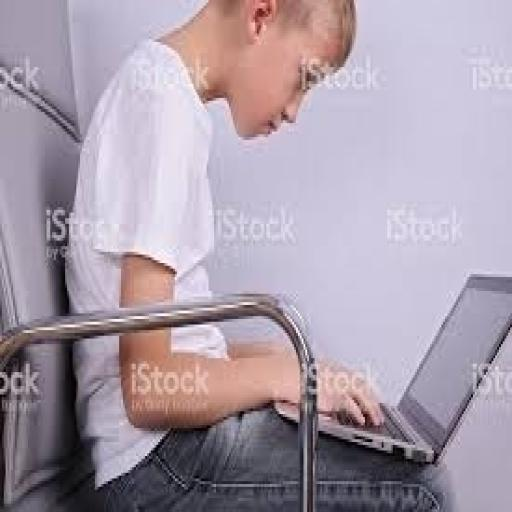using_laptop: (272, 269, 510, 467)
